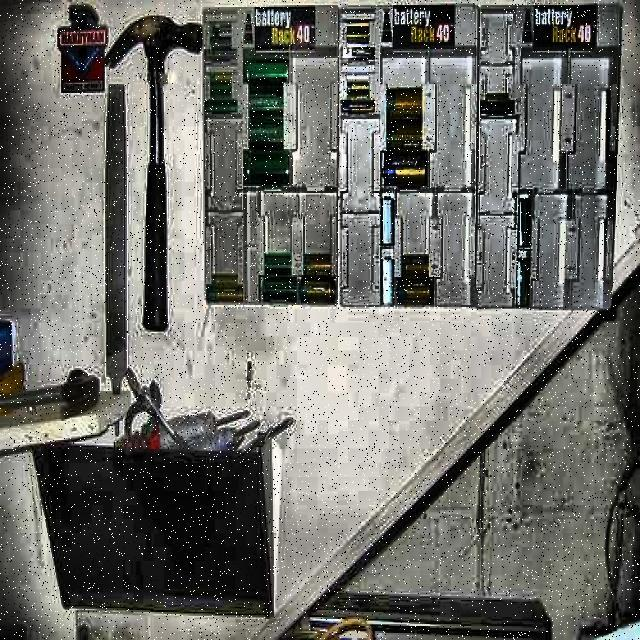hammer: (103, 12, 205, 331)
